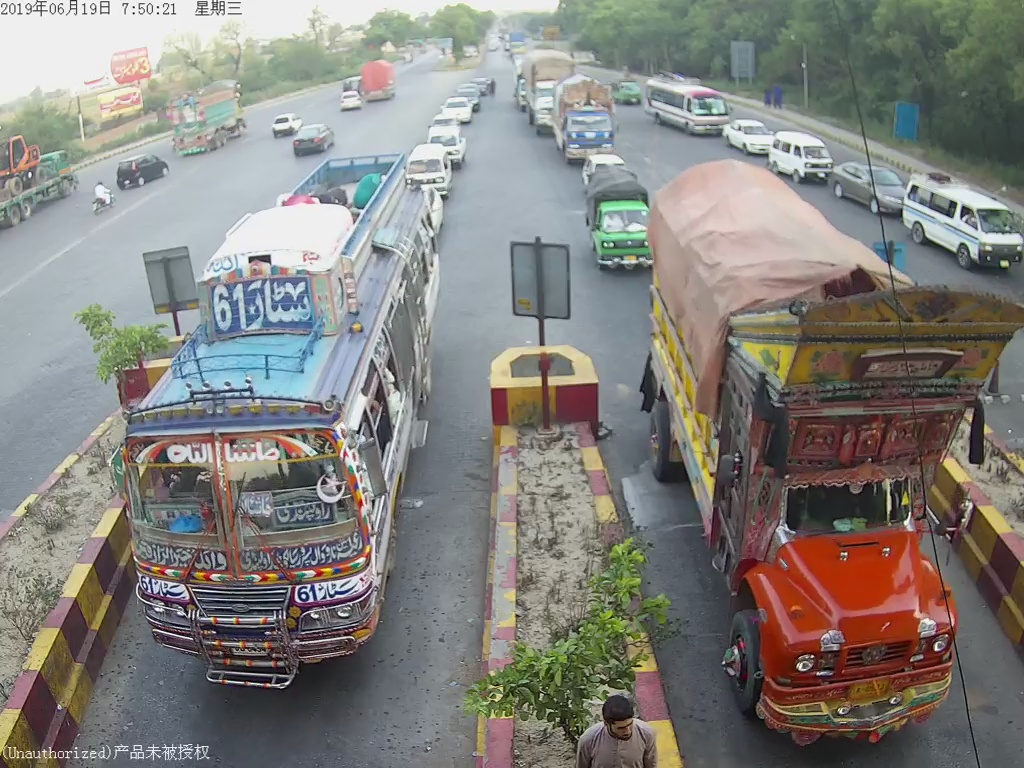Cat-1: (583, 172, 653, 270)
Cat-2: (550, 77, 619, 166)
Cat-3: (115, 165, 440, 686)
Cat-4: (659, 163, 990, 737)
